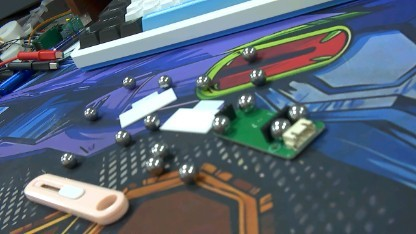ironball: (173, 160, 195, 183), (152, 71, 173, 91), (141, 156, 163, 175), (192, 73, 212, 91), (141, 112, 160, 129), (237, 45, 255, 62), (58, 151, 76, 168), (147, 140, 166, 155), (111, 130, 131, 144), (211, 113, 227, 130), (81, 105, 97, 122), (268, 109, 284, 125), (119, 75, 136, 90), (288, 102, 304, 117), (238, 92, 254, 106), (249, 68, 264, 81)
